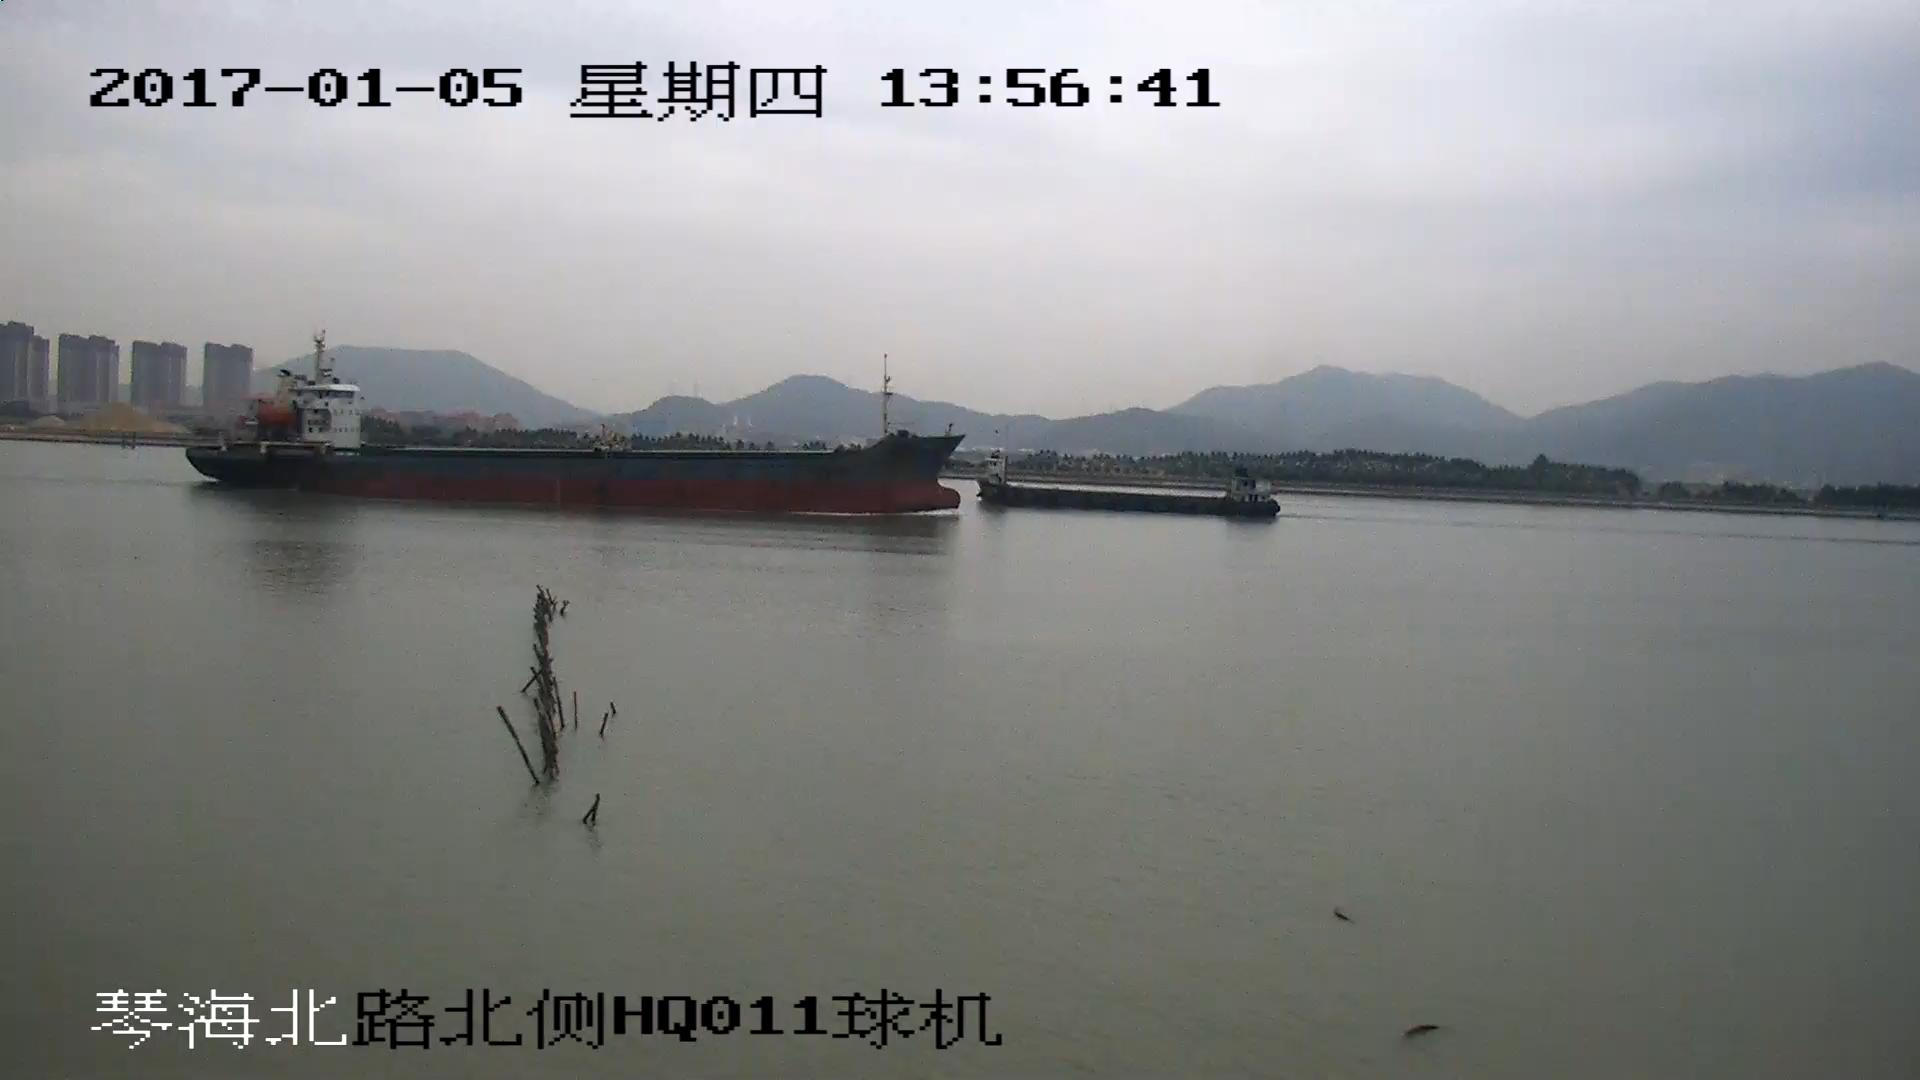general cargo ship: (188, 335, 965, 516), (980, 447, 1274, 516)
